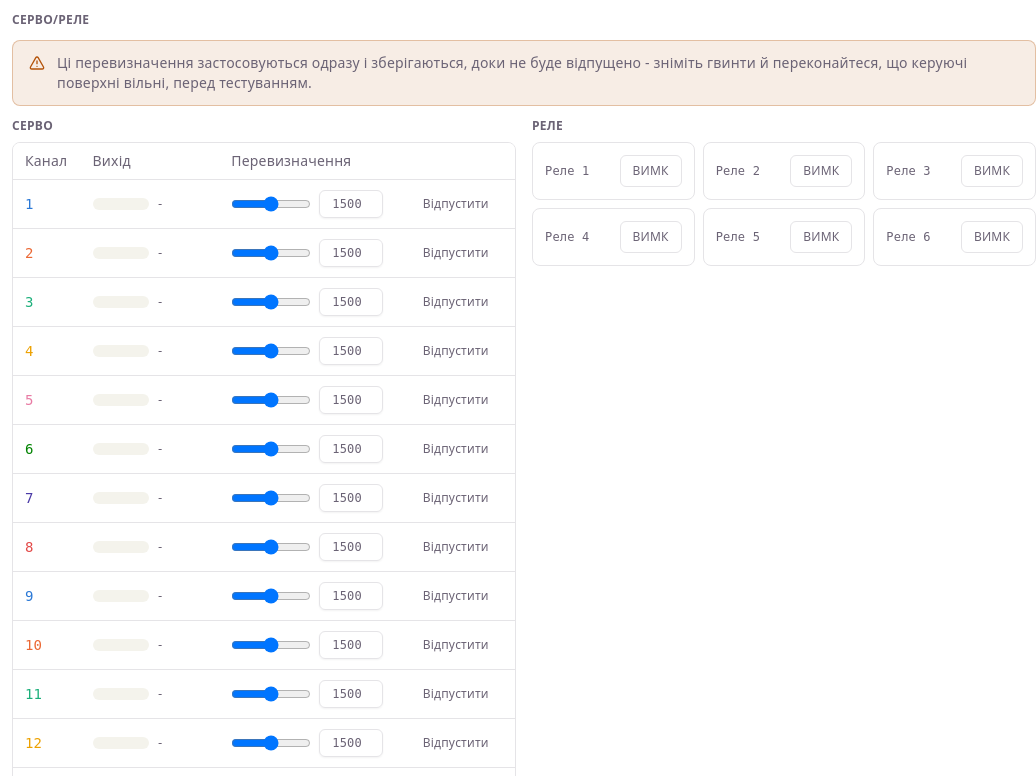
Test: ServoRelaySection › clicking a relay button toggles it on, then off, sending the matching instance/state
Click the button "ВИМК" next to "Реле 1" at (651, 171), box [620,155,682,187]
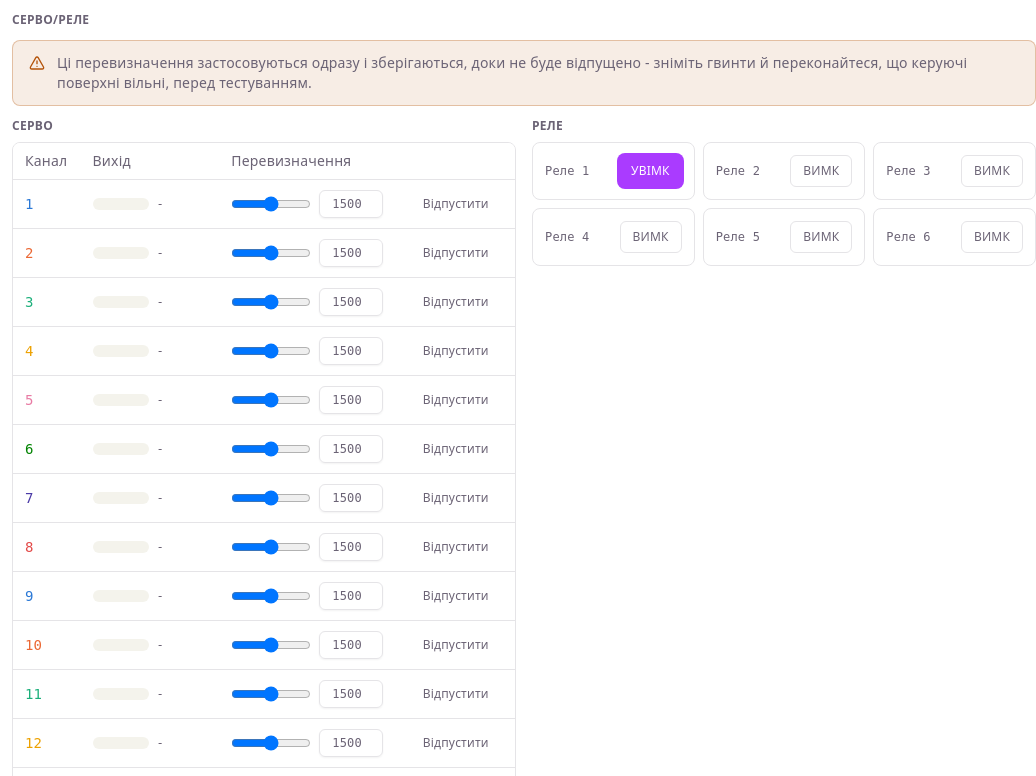
Now the button "УВІМК" is shown
Click the button "УВІМК" at (650, 171), box [619,155,682,187]
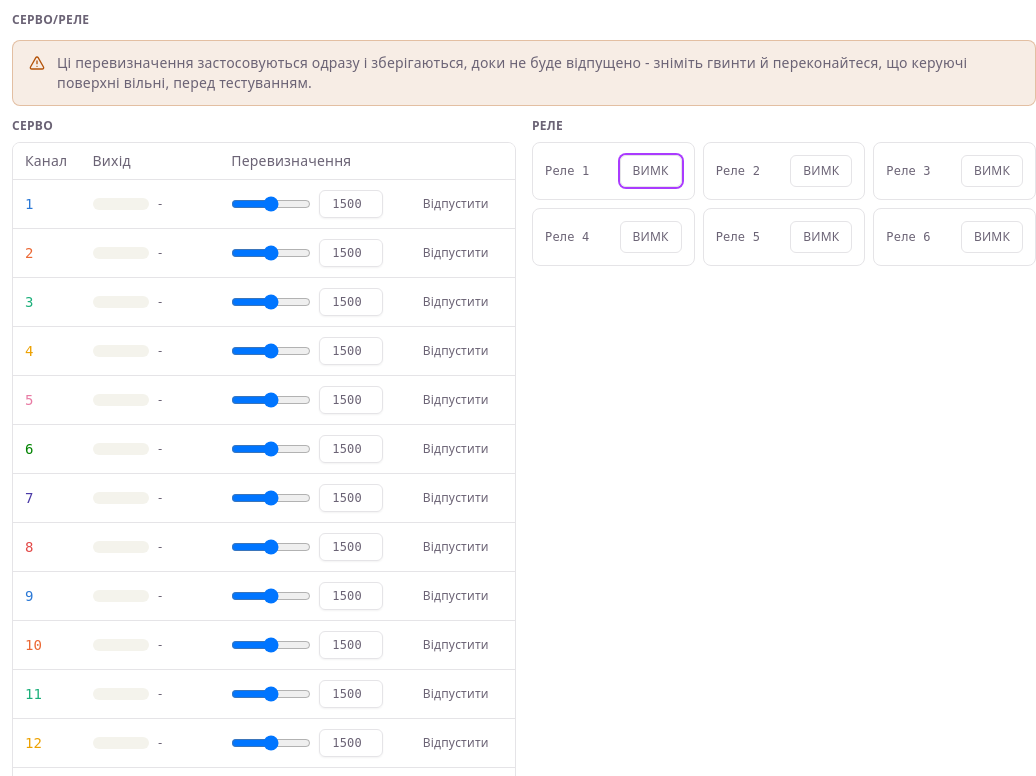
Now the button "ВИМК" next to "Реле 1" is shown, box [620,155,682,187]
